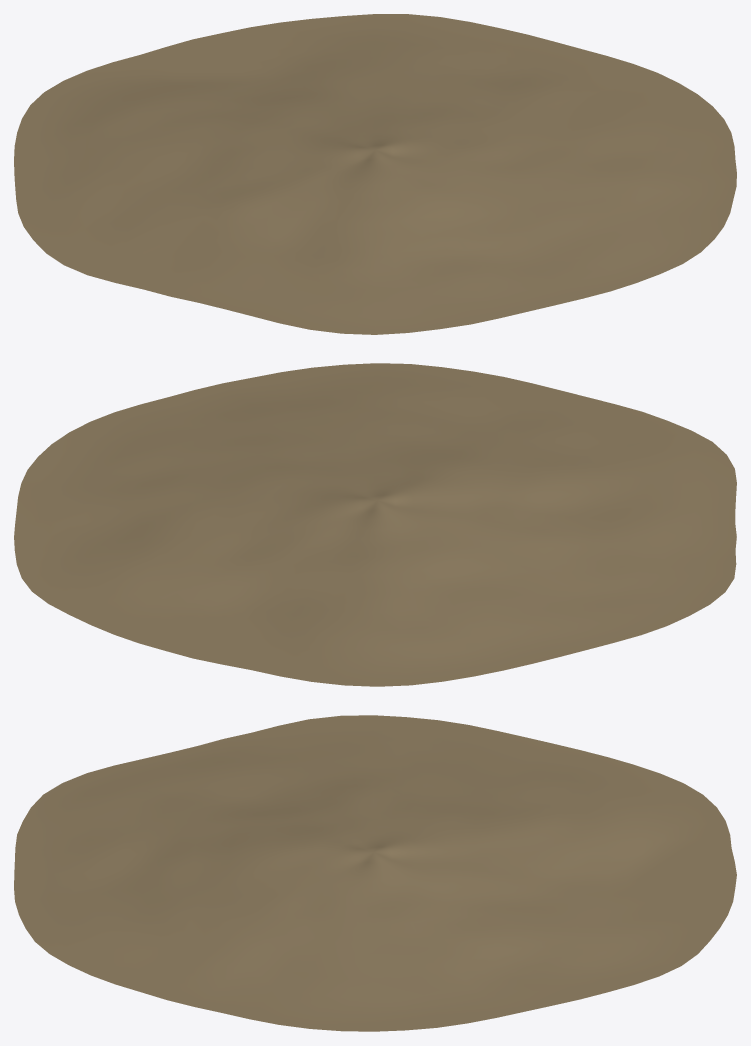
Rendered from flatground-v1-source.glb.
3 renders of one model, top to bottom at view 1: azimuth 30°, elevation 25°; view 2: azimuth 150°, elevation 25°; view 3: azimuth 270°, elevation 25°, orthographic.
Visible parts, largest first — view 1: flatground_v1_source; view 2: flatground_v1_source; view 3: flatground_v1_source.
Boxes of the visible parts, x1,y1,x2,y2 form: flatground_v1_source: [14, 14, 736, 334]; flatground_v1_source: [14, 363, 736, 686]; flatground_v1_source: [14, 715, 736, 1031].
Bounding box in the file's own units: 1.84 × 0.062 × 1.77.
